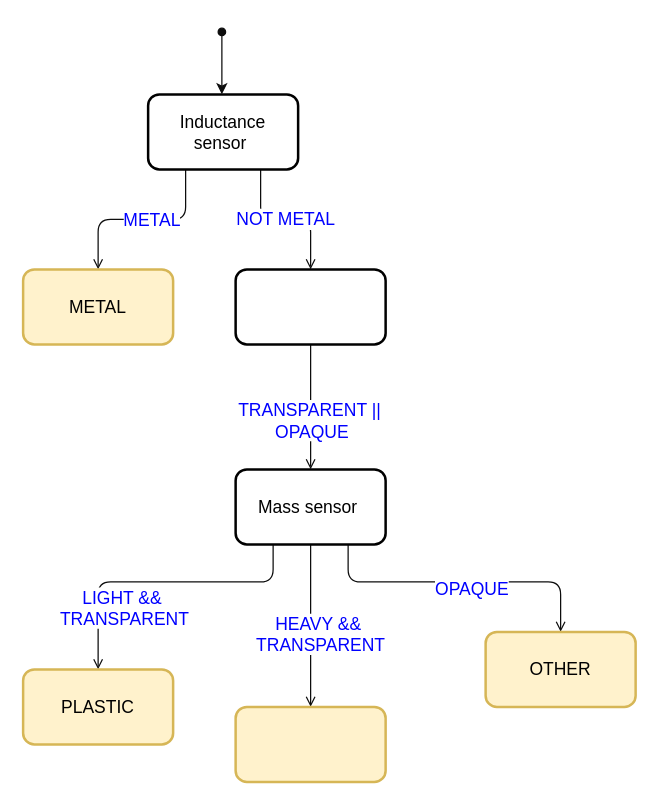
Some shapes in this 658 by 805 pixel diagram are drawn without their labels. Here are the shapes that lost their labels. From the top down, the centre of each, then its label:
At point 310,306: "Optical sensor".
At point 310,743: "GLASS".
